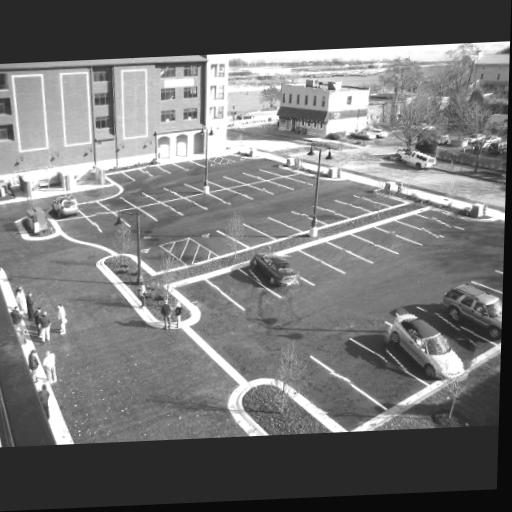busy: (383, 306, 480, 382), (447, 283, 501, 341), (247, 250, 304, 290), (394, 146, 435, 171), (51, 196, 82, 217)
free: (312, 370, 354, 415), (417, 311, 461, 347), (353, 352, 387, 388), (18, 93, 44, 136), (190, 286, 221, 309), (93, 209, 118, 235), (239, 227, 262, 249), (431, 210, 457, 228), (230, 280, 254, 298), (297, 261, 321, 277), (421, 218, 441, 237), (265, 222, 286, 238), (313, 209, 335, 224), (324, 250, 346, 264), (399, 227, 418, 243), (373, 233, 396, 246), (286, 214, 308, 227), (69, 221, 91, 234), (358, 197, 376, 212), (331, 204, 352, 216), (145, 165, 164, 178), (349, 242, 369, 254), (175, 201, 194, 212), (108, 198, 125, 210), (223, 193, 242, 203), (154, 207, 171, 218), (262, 184, 280, 194), (300, 177, 318, 187), (198, 199, 216, 209), (131, 194, 148, 204), (154, 191, 172, 200), (84, 204, 100, 214), (173, 187, 191, 195), (114, 175, 129, 184), (300, 175, 316, 183), (183, 164, 197, 173), (243, 190, 260, 197), (282, 180, 297, 187), (219, 179, 233, 186), (257, 172, 270, 179), (132, 173, 145, 180), (276, 169, 291, 175), (241, 175, 254, 181), (166, 166, 178, 172)
